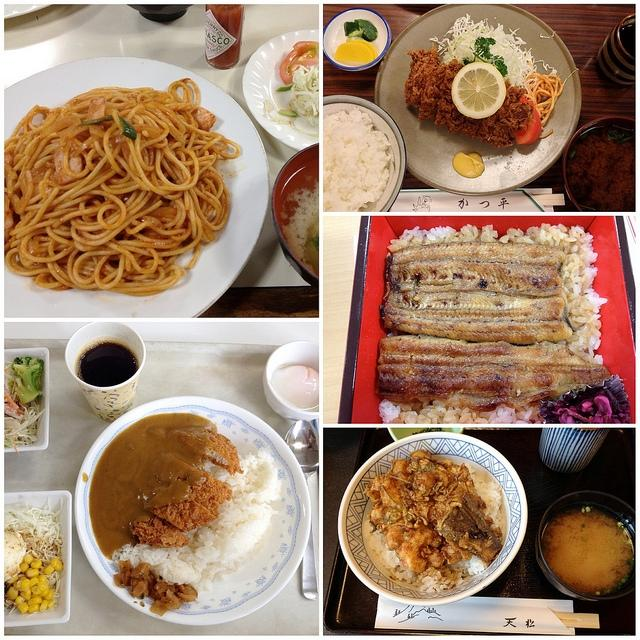lemon: (451, 62, 507, 119), (334, 42, 374, 62)
